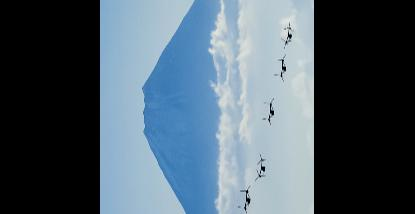Tornado: (238, 184, 251, 213), (255, 152, 268, 180), (281, 20, 294, 47), (274, 53, 286, 80), (262, 97, 274, 124)
